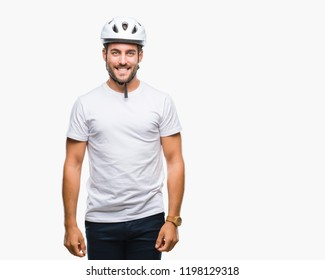helmet: (101, 16, 146, 85)
